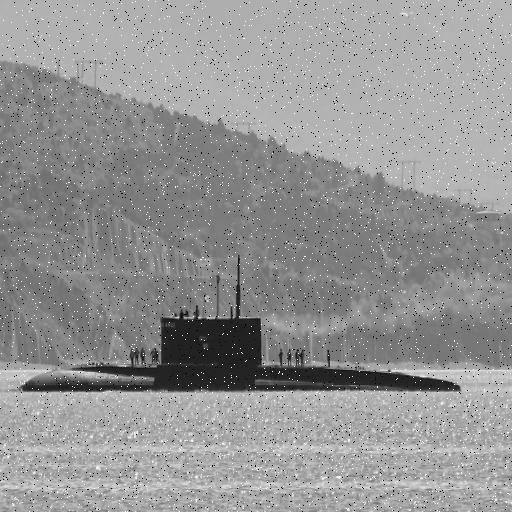submarine: (2, 244, 477, 389)
